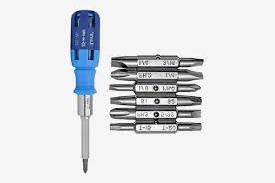Screwdriver: (61, 5, 110, 175)
